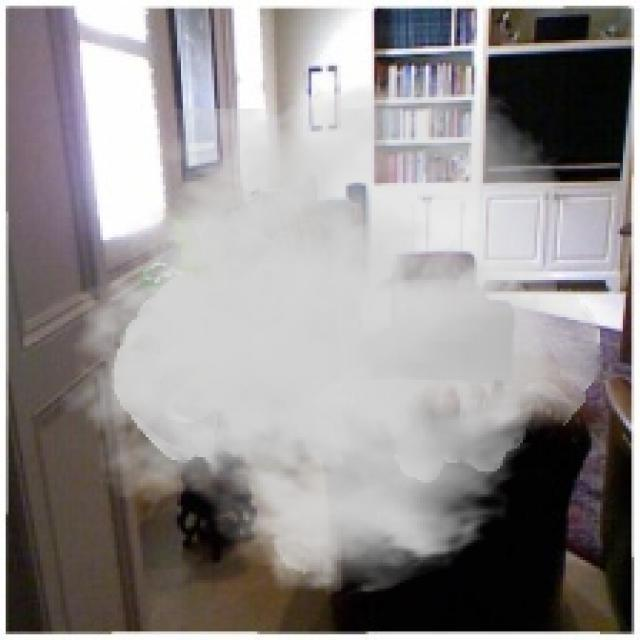Smoke: (57, 60, 603, 600)
